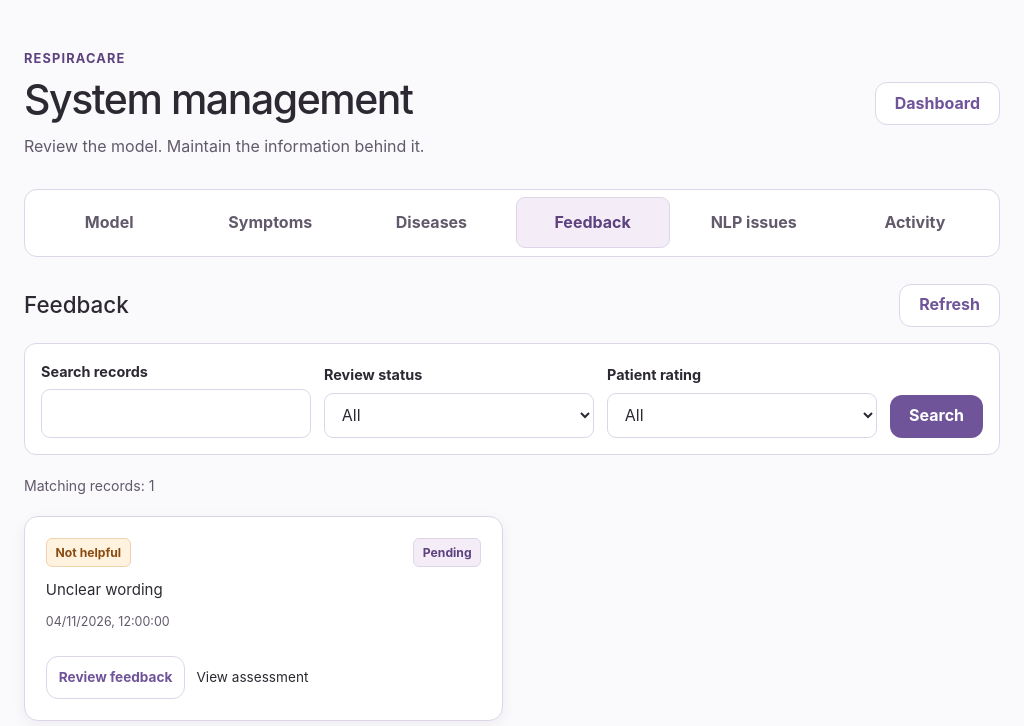
Test: administrator system management › filters feedback and records the review without changing the patient comment
The image size is (1024, 726).
Select "Not helpful" in the dropdown labelled "Patient rating" at coordinates (742, 415), box [607, 393, 877, 438]
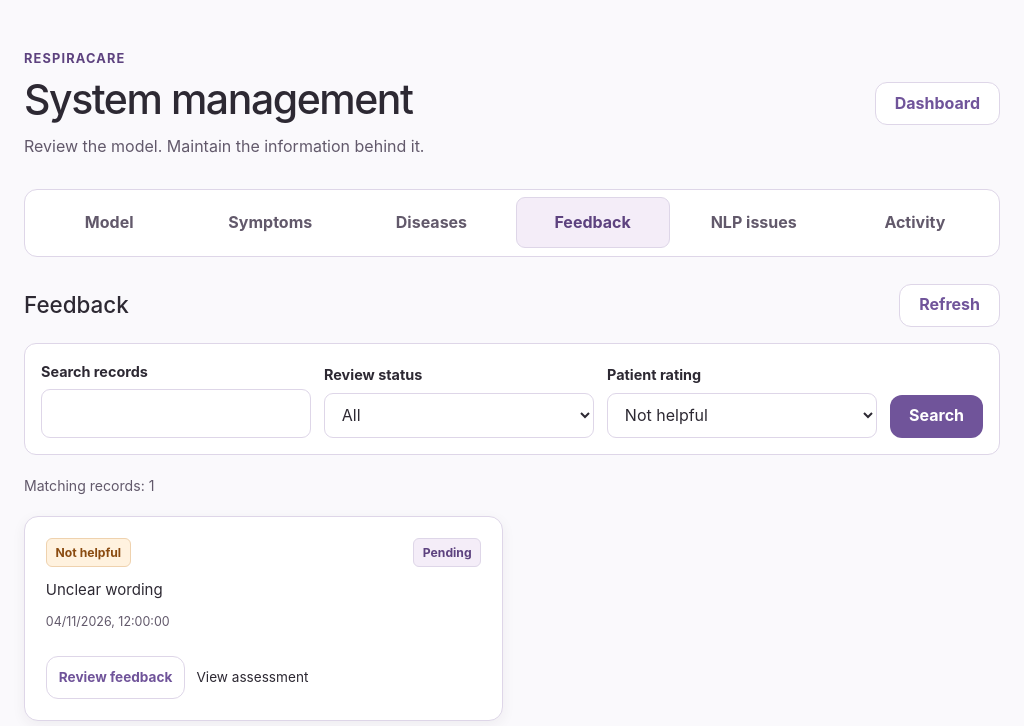
Click the button "Review feedback" at coordinates (116, 678), box [46, 656, 185, 699]
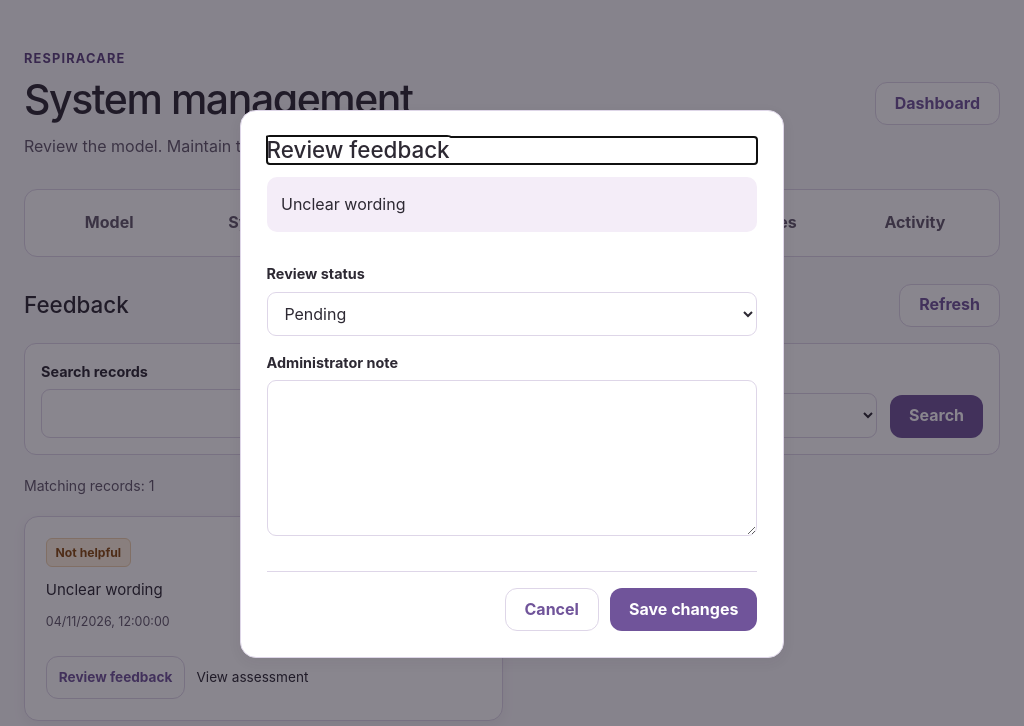
Select "Resolved" in the dropdown labelled "Review status" at coordinates (512, 314), box [267, 292, 757, 336]
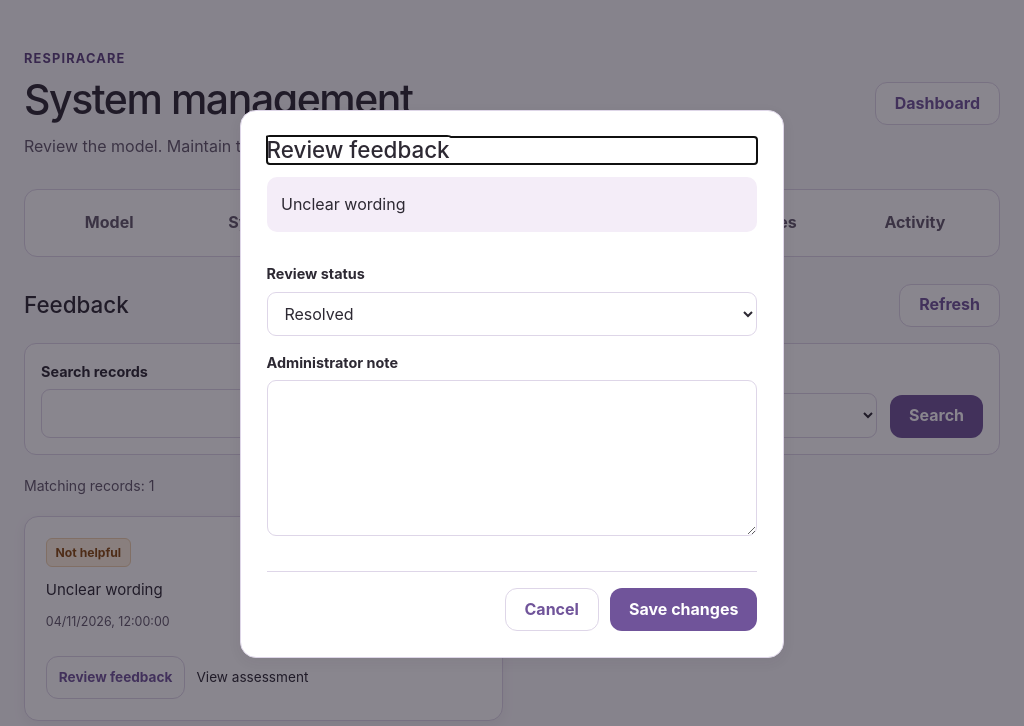
Type "Wording checked." into the text box labelled "Administrator note" at coordinates (512, 458), box [267, 380, 757, 536]
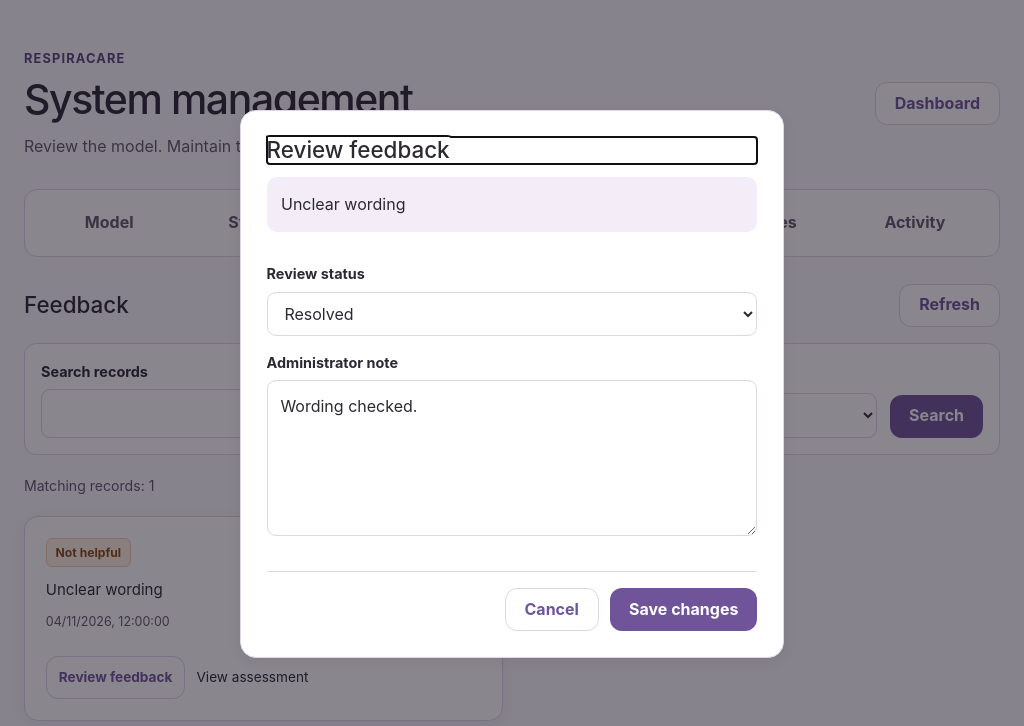
Click the button "Save changes" at coordinates (684, 610), box [610, 588, 757, 631]
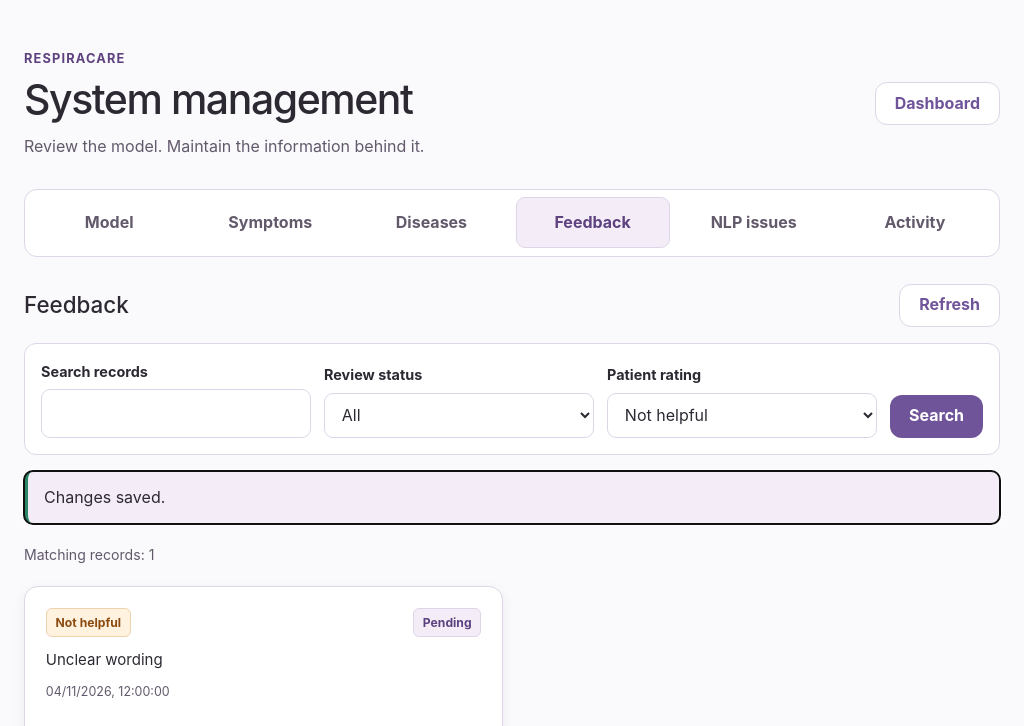
Expected: the text "Changes saved." is shown, [24, 471, 1000, 524]
